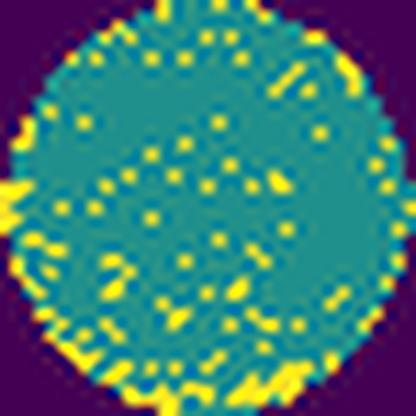Edge-Loc: (97, 357, 215, 415), (220, 354, 316, 407), (0, 173, 37, 238)
